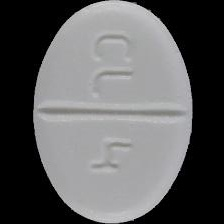33342-033: (0, 0, 224, 224)
